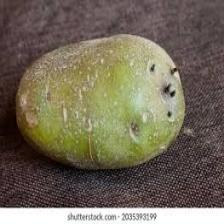Defected potato: (14, 29, 186, 176)
